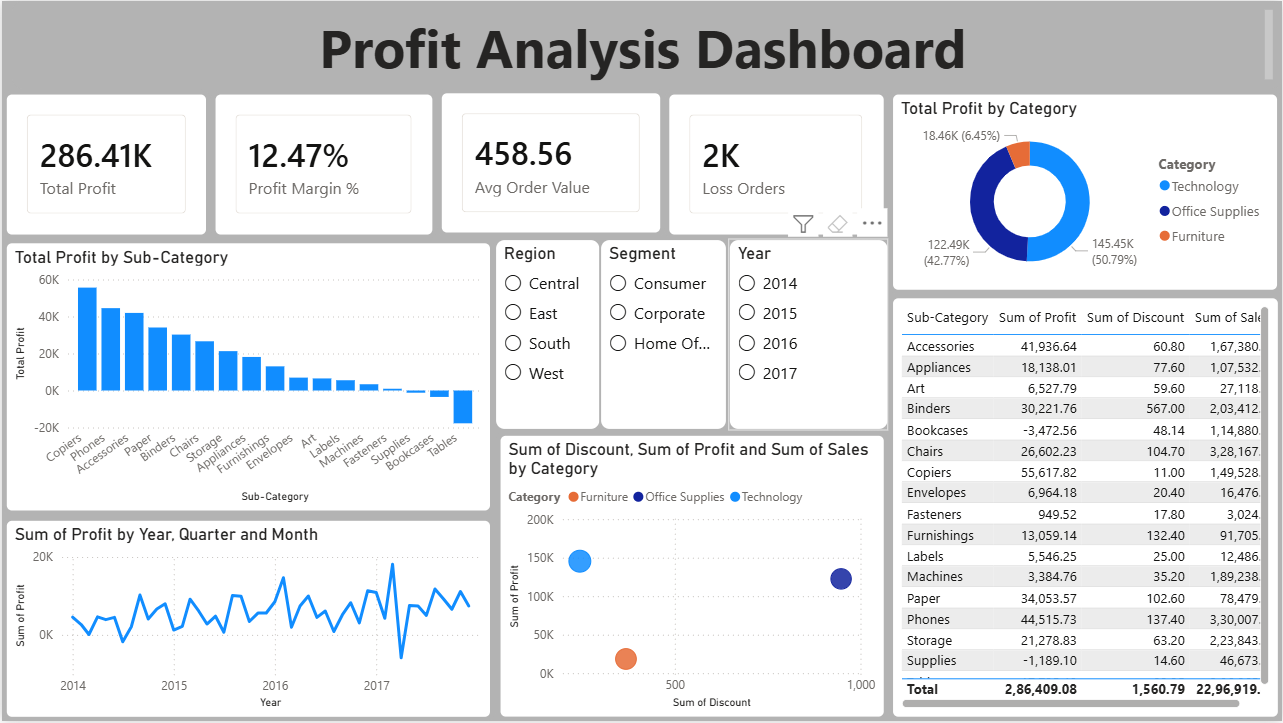

The dashboard page shown, as its layout file describes it:
{"tool":"powerbi","page":{"name":"Profit Analysis Dashboard","canvas":[1280,720],"ordinal":2},"visuals":[{"type":"textbox","box":[10.2,0,1269.7,88.2],"z":0},{"type":"cardVisual","fields":{"Data":["Sale.Total Profit"]},"box":[0,88.2,209.2,149.2],"z":1000},{"type":"cardVisual","fields":{"Data":["Sale.Profit Margin %"]},"box":[209.2,88.2,226.1,149.2],"z":2000},{"type":"cardVisual","fields":{"Data":["Sale.Avg Order Value"]},"box":[434.7,88.1,228.1,149],"z":3000},{"type":"cardVisual","fields":{"Data":["Sale.Loss Orders"]},"box":[662.6,88.2,223.9,149.2],"z":4000},{"type":"donutChart","fields":{"Category":["Sale.Category"],"Y":["Sale.Total Profit"]},"box":[886.4,88.2,393.5,204.6],"z":5000},{"type":"scatterChart","fields":{"X":["Sum(Sale.Discount)"],"Y":["Sum(Sale.Profit)"],"Series":["Sale.Category"],"Size":["Sum(Sale.Sales)"]},"box":[493.4,430.2,392.9,290.2],"z":6000},{"type":"columnChart","fields":{"Category":["Sale.Sub-Category"],"Y":["Sale.Total Profit"]},"box":[0,237.4,493,277],"z":7000},{"type":"tableEx","fields":{"Values":["Sale.Sub-Category","Sum(Sale.Profit)","Sum(Sale.Discount)","Sum(Sale.Sales)"]},"box":[886.4,292.5,394.1,427.9],"z":8000},{"type":"lineChart","fields":{"Y":["Sum(Sale.Profit)"],"Category":["Sale.Order Date.Variation.Date Hierarchy.Year","Sale.Order Date.Variation.Date Hierarchy.Quarter","Sale.Order Date.Variation.Date Hierarchy.Month"]},"box":[0,514.4,493,205.8],"z":9000},{"type":"listSlicer","fields":{"Values":["Sale.Region"]},"box":[493,237.4,106.3,192.2],"z":10000},{"type":"listSlicer","fields":{"Values":["Sale.Segment"]},"box":[598.1,237.4,127.8,192.2],"z":11000},{"type":"listSlicer","fields":{"Values":["Sale.Year"]},"box":[725.9,237.4,160.6,192.2],"z":12000}]}

Visuals, with their boxes in screenshot pixels (x1, y1, x2, y2), scaled from the page's 1280x720 canvas onto the 1283x723 screenshot:
textbox: rect(10, 0, 1282, 89)
cardVisual - Sale.Total Profit: rect(0, 89, 210, 238)
cardVisual - Sale.Profit Margin %: rect(210, 89, 436, 238)
cardVisual - Sale.Avg Order Value: rect(436, 88, 664, 238)
cardVisual - Sale.Loss Orders: rect(664, 89, 889, 238)
donutChart - Sale.Category x Sale.Total Profit: rect(888, 89, 1282, 294)
scatterChart - Sum(Sale.Discount) x Sum(Sale.Profit): rect(495, 432, 888, 722)
columnChart - Sale.Sub-Category x Sale.Total Profit: rect(0, 238, 494, 517)
tableEx - Sale.Sub-Category x Sum(Sale.Profit): rect(888, 294, 1282, 722)
lineChart - Sum(Sale.Profit) x Sale.Order Date.Variation.Date Hierarchy.Year: rect(0, 517, 494, 722)
listSlicer - Sale.Region: rect(494, 238, 601, 431)
listSlicer - Sale.Segment: rect(600, 238, 728, 431)
listSlicer - Sale.Year: rect(728, 238, 889, 431)
